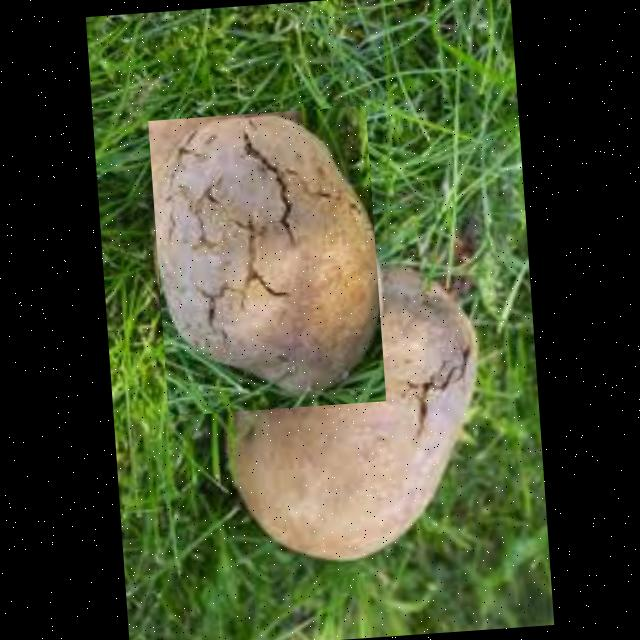Damaged potato: (214, 254, 495, 564), (147, 104, 386, 414)
